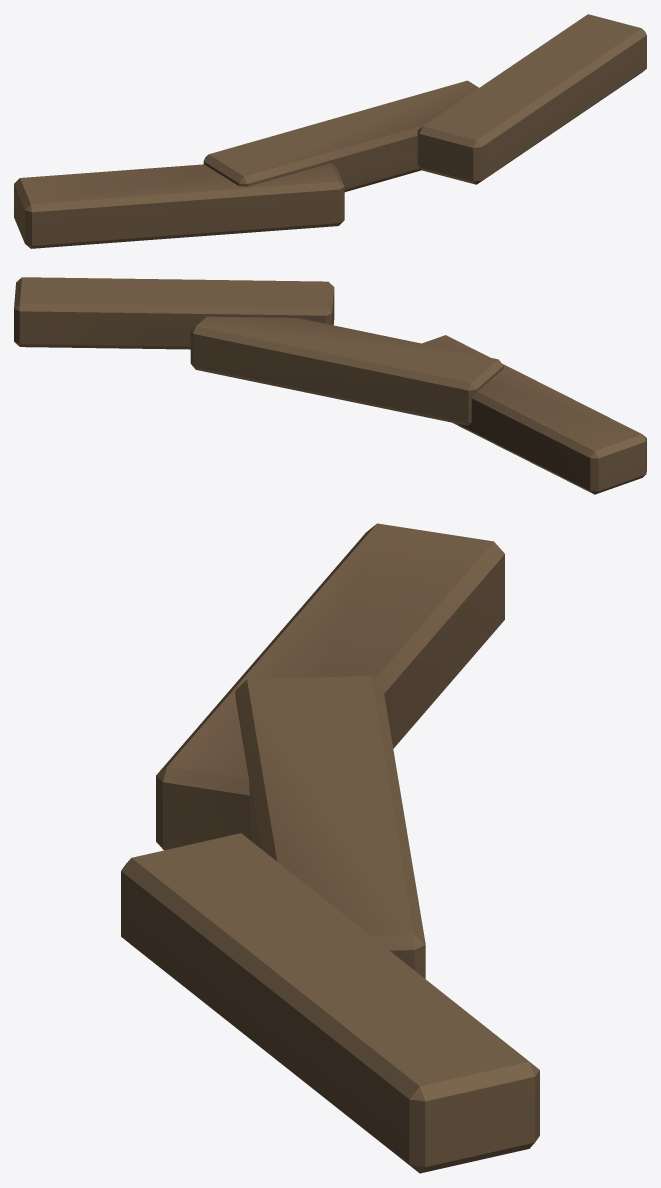
Rendered from bench_pieces.glb.
3 renders of one model, top to bottom at view 1: azimuth 30°, elevation 25°; view 2: azimuth 150°, elevation 25°; view 3: azimuth 270°, elevation 25°, orthographic. The views are drawn at different scales.
Visible parts, largest first — view 1: bench_pieces; view 2: bench_pieces; view 3: bench_pieces.
Boxes of the visible parts, <box> form: bench_pieces: <box>14,14,646,248</box>; bench_pieces: <box>14,277,646,494</box>; bench_pieces: <box>121,523,539,1173</box>.
Bounding box in the file's own units: 0.9658 × 0.089 × 0.2831.
